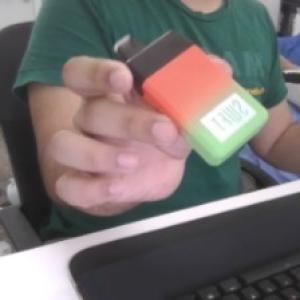Swift-E-Ciggirate: (108, 32, 270, 167)
